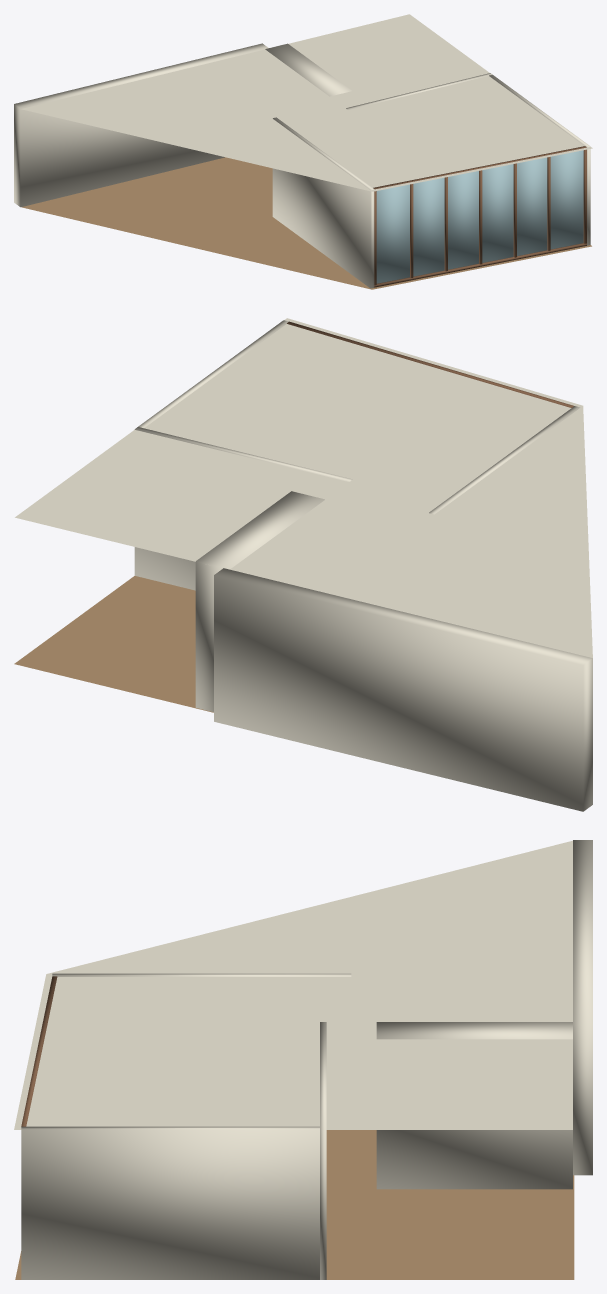
File: dining-room.glb
3 renders of one model, top to bottom at view 1: azimuth 30°, elevation 25°; view 2: azimuth 150°, elevation 25°; view 3: azimuth 270°, elevation 25°, orthographic. The views are drawn at different scales.
Parts seen in each view (by area): view 1: Techo, piso, muro_detras, Muro_003, Ventana_1, ventana_6, ventana_2, ventana_4, ventana_5, ventana_3, muro_de_puerta, Muro_2 (+9 smaller); view 2: Techo, muro_detras, piso, muro_de_puerta, Muro_1, carpinteria_ventana, Muro_003, Muro_2; view 3: Techo, Muro_2, piso, muro_de_puerta, muro_detras, Muro_1, Muro_003, carpinteria_ventana.
Part boxes in pixels (bbox=[...]): Techo: bbox=[21, 14, 592, 191]; piso: bbox=[21, 157, 591, 289]; muro_detras: bbox=[14, 43, 268, 207]; Muro_003: bbox=[272, 117, 374, 288]; Ventana_1: bbox=[376, 184, 409, 283]; ventana_6: bbox=[550, 150, 583, 249]; ventana_2: bbox=[413, 177, 444, 276]; ventana_4: bbox=[482, 164, 513, 262]; ventana_5: bbox=[517, 157, 547, 255]; ventana_3: bbox=[448, 171, 478, 269]; muro_de_puerta: bbox=[265, 43, 351, 96]; Muro_2: bbox=[489, 74, 590, 245]; Techo: bbox=[15, 318, 592, 657]; muro_detras: bbox=[214, 568, 592, 811]; piso: bbox=[14, 576, 213, 712]; muro_de_puerta: bbox=[195, 491, 324, 711]; Muro_1: bbox=[134, 427, 352, 590]; carpinteria_ventana: bbox=[287, 321, 573, 407]; Muro_003: bbox=[429, 406, 580, 514]; Muro_2: bbox=[138, 320, 288, 428]; Techo: bbox=[14, 840, 572, 1129]; Muro_2: bbox=[21, 1126, 319, 1279]; piso: bbox=[15, 1130, 574, 1279]; muro_de_puerta: bbox=[376, 1022, 572, 1189]; muro_detras: bbox=[573, 840, 592, 1175]; Muro_1: bbox=[320, 1022, 326, 1279]; Muro_003: bbox=[52, 973, 351, 976]; carpinteria_ventana: bbox=[21, 976, 57, 1126].
Size of the model in its own units: 1239 by 302 by 1047.
